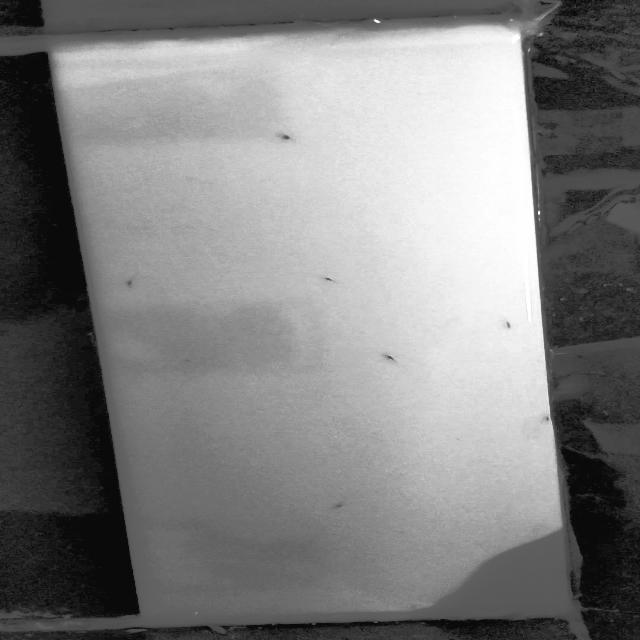shrimp: (377, 349, 407, 367), (316, 273, 345, 287), (331, 496, 351, 512), (120, 277, 144, 288), (277, 131, 297, 144), (496, 319, 514, 332)
